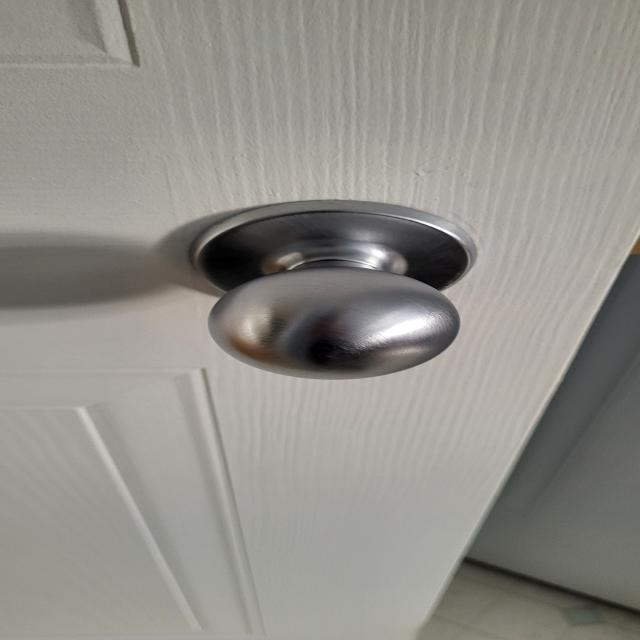door-knob: (192, 200, 476, 379)
